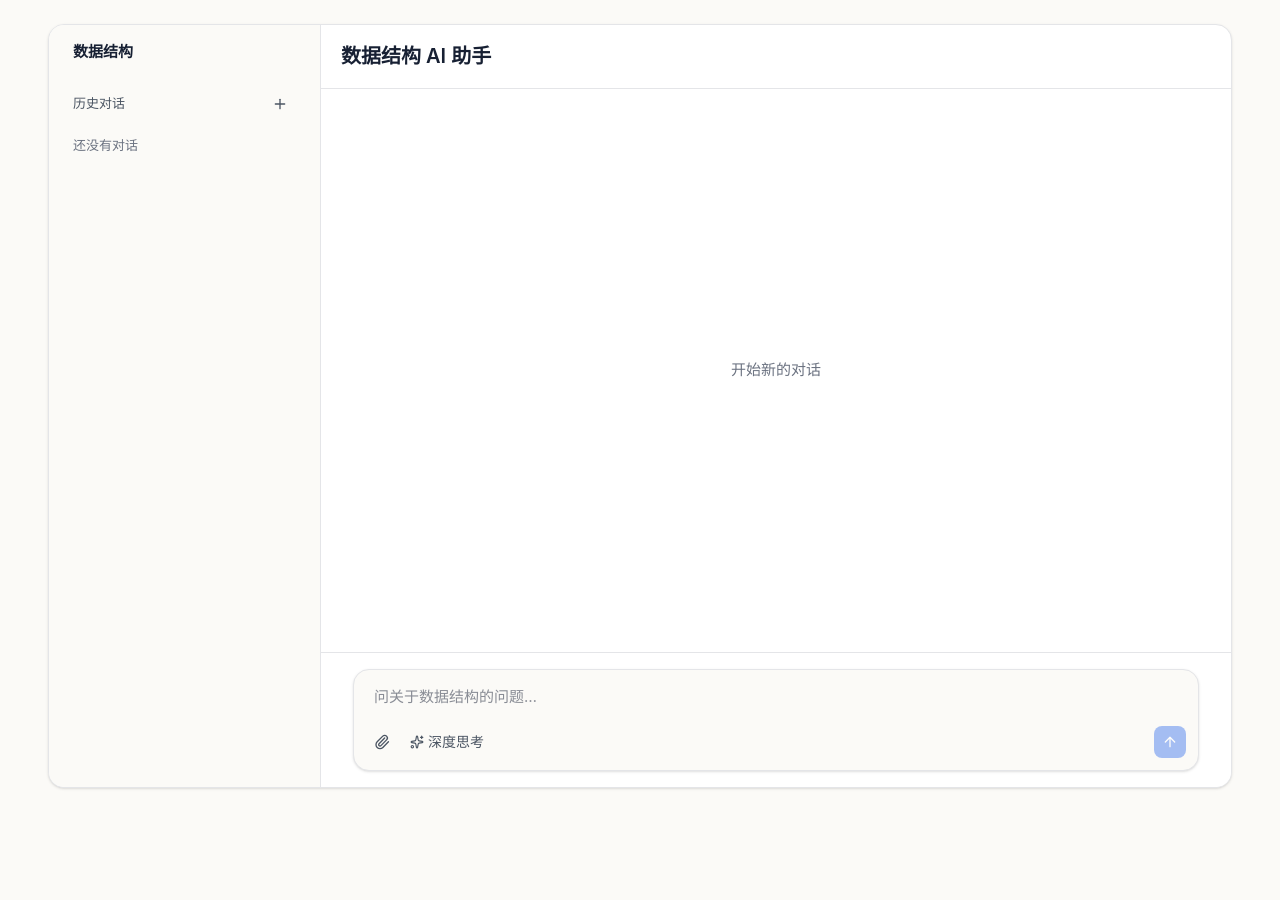
Test case: streaming answers › marks the turn failed on an error event instead of showing raw detail
This screenshot has width=1280, height=900.
Type "解释链表" into the text box named "你的问题". click: (776, 702)
box: 362,678 -> 1190,726
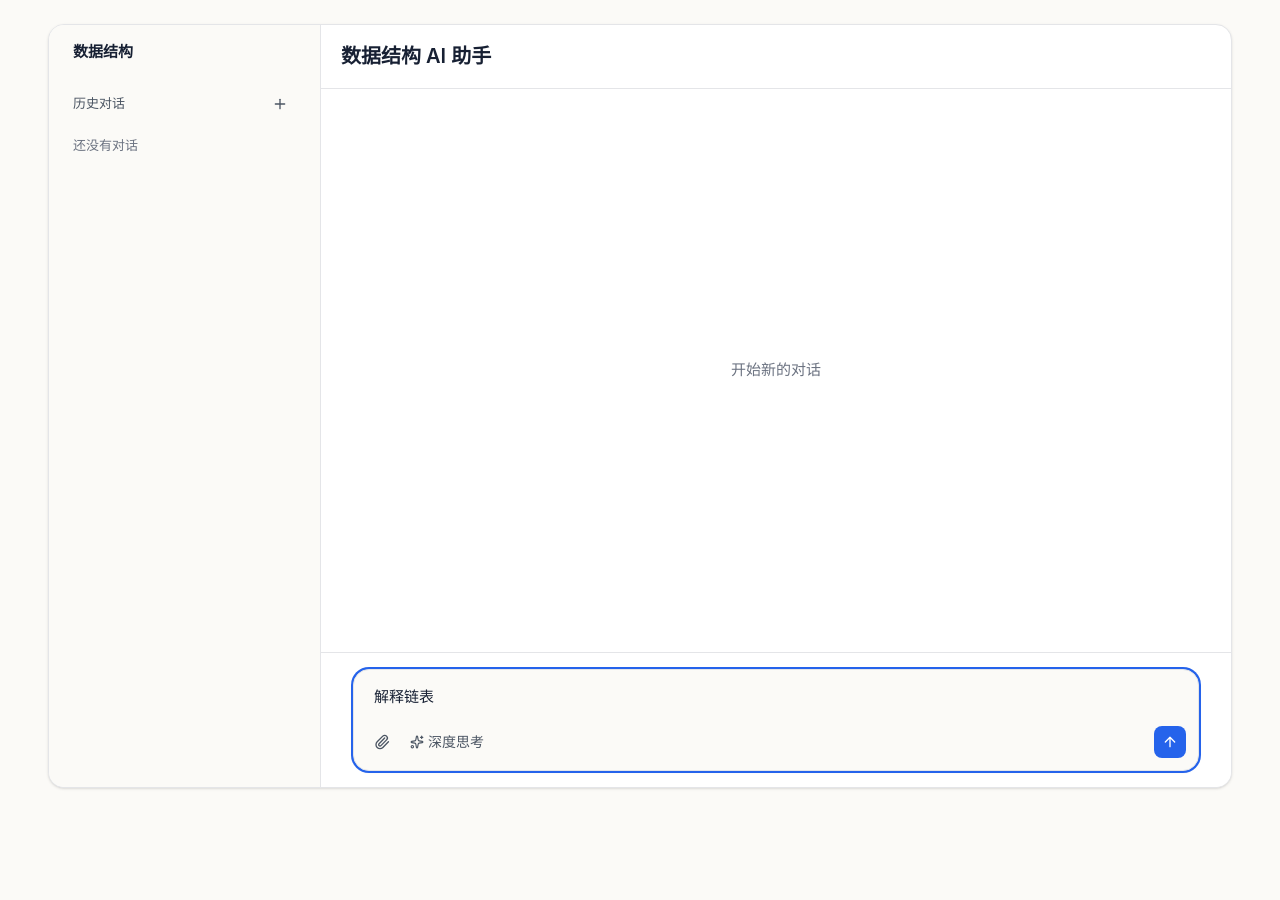
Click the button named "发送". click: (1170, 742)
box: 1154,726 -> 1186,758
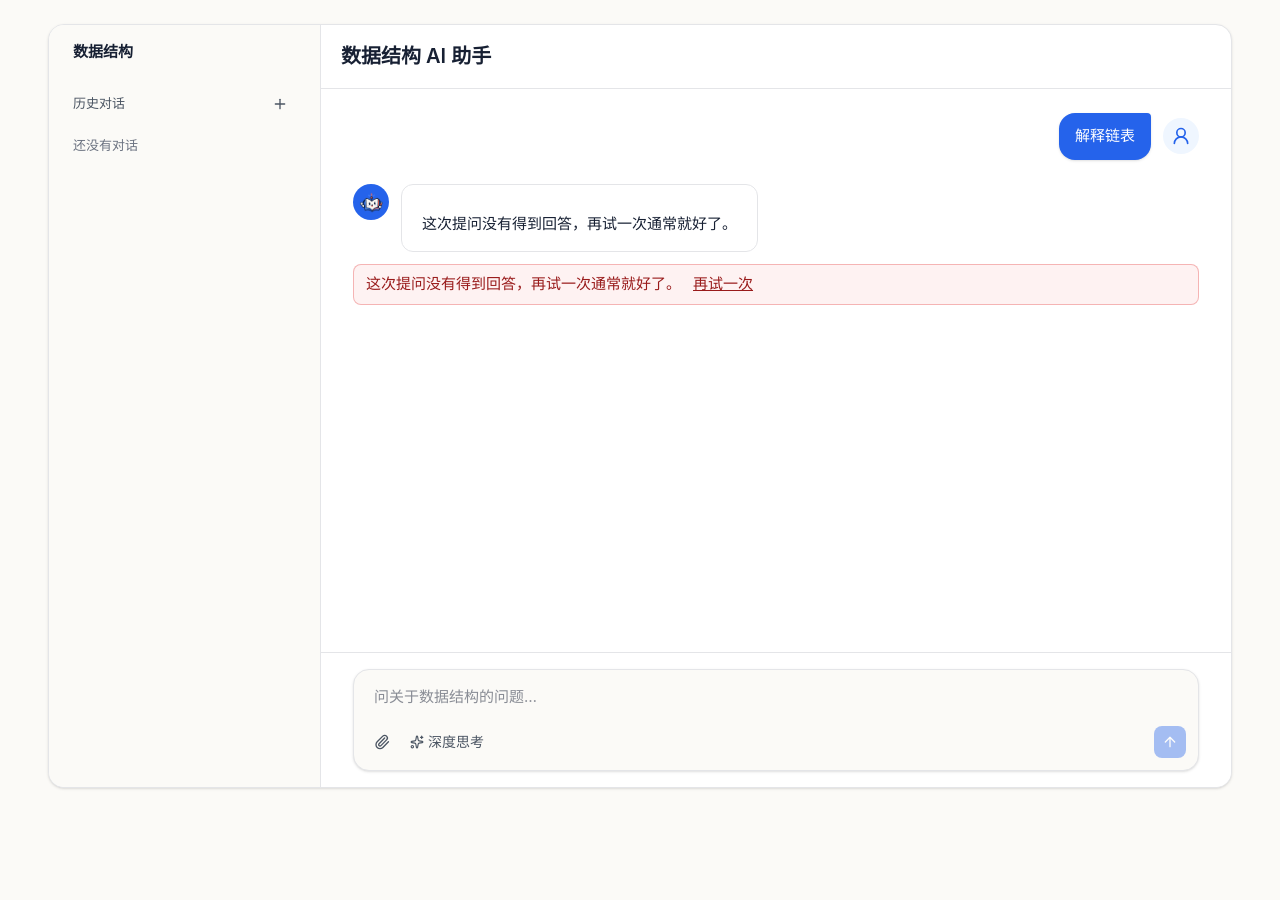
Now the message shows "这次提问没有得到回答，再试一次通常就好了。", box 366,274 -> 681,293
